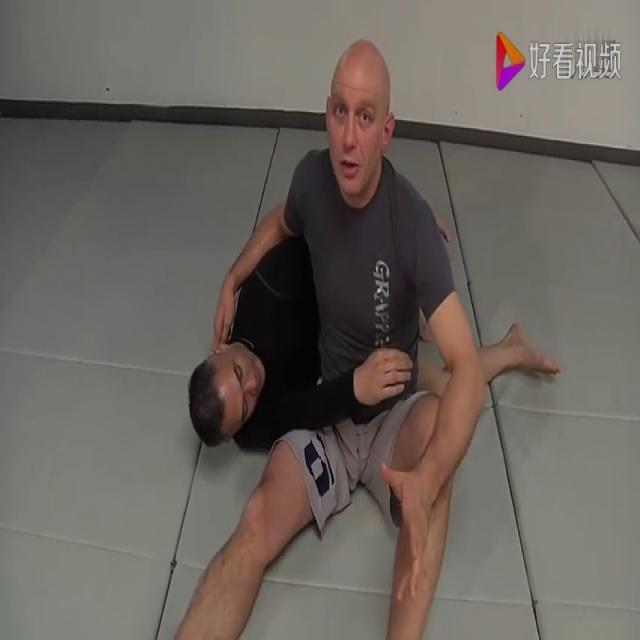fight: (153, 32, 566, 639)
